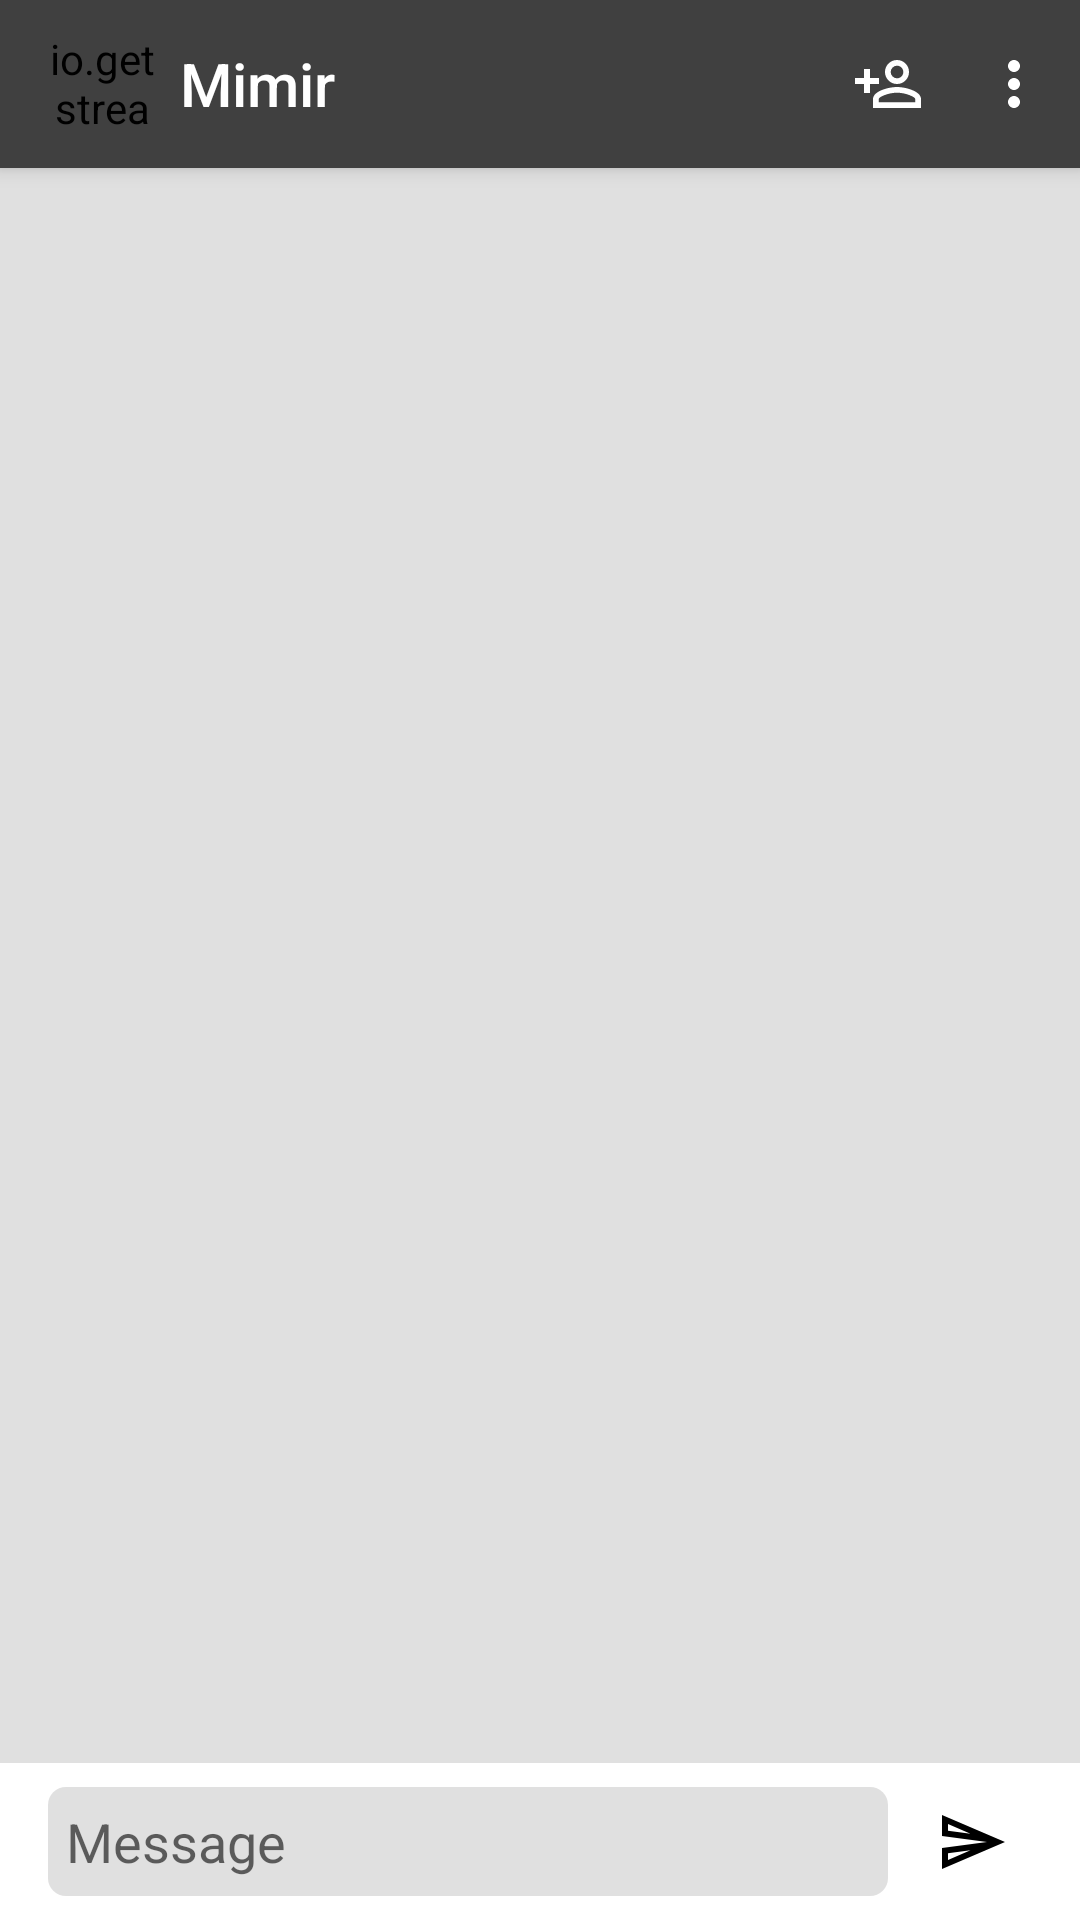

Icons on this 1080 × 1920 Android screen, each with the point to tap as (x=x, y=y):
send: (x=973, y=1842)
